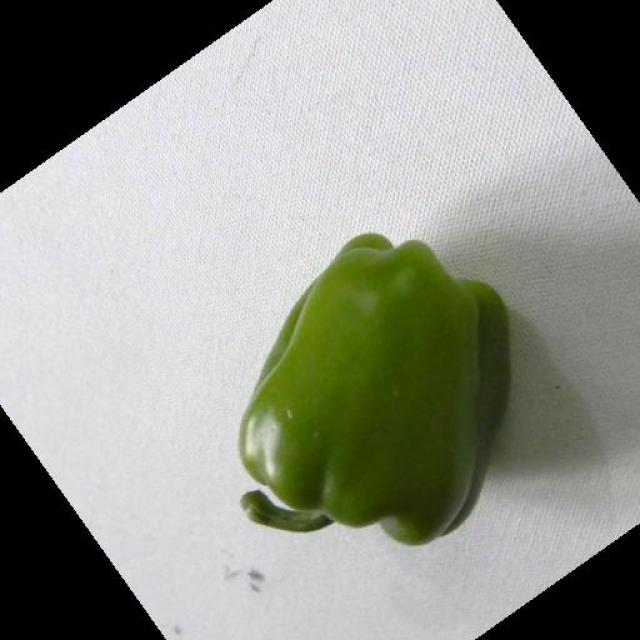Fresh_Capsicum: (212, 250, 489, 547)
